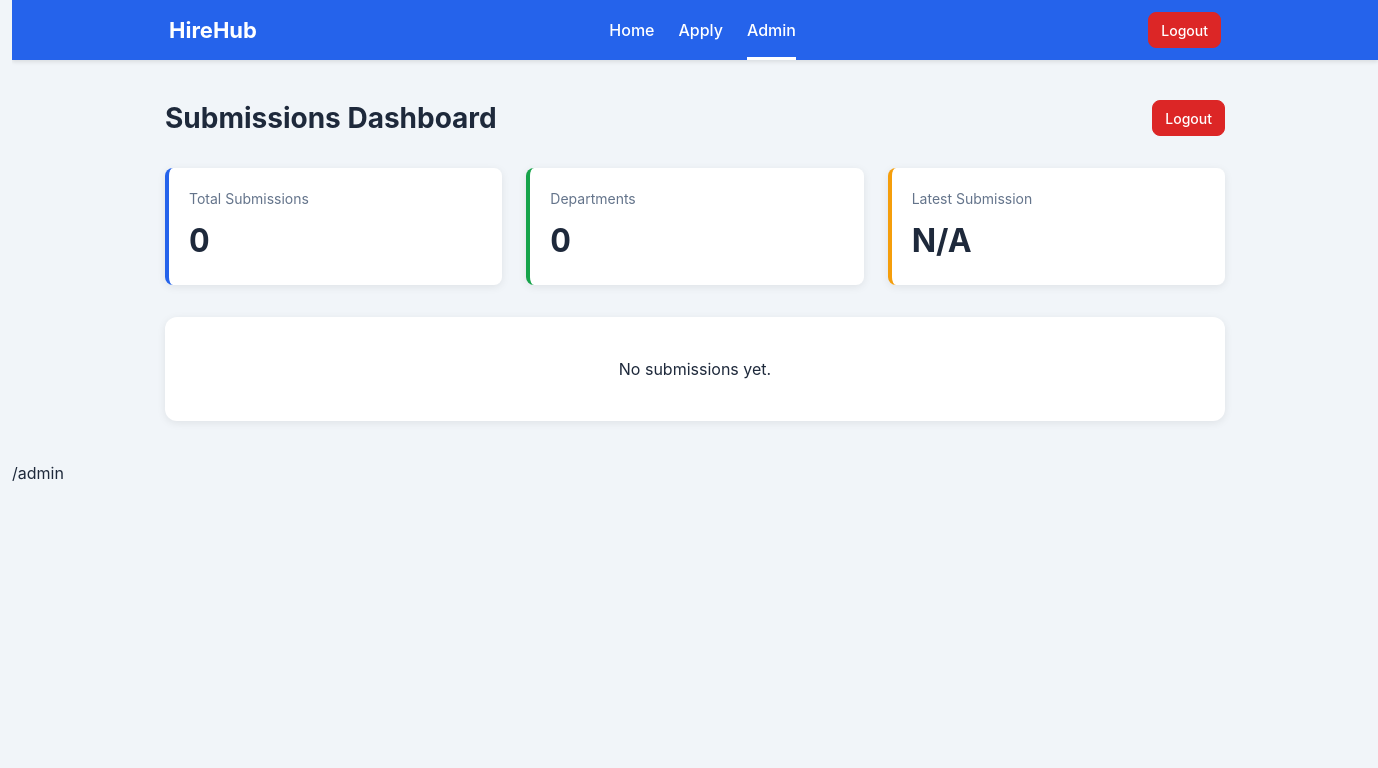
Scenario: App session routing › logs out through the main, clears only auth, and redirects home
Click the button "Logout" in the row of "Submissions Dashboard".
click(1189, 118)  # box [1152,100,1225,136]
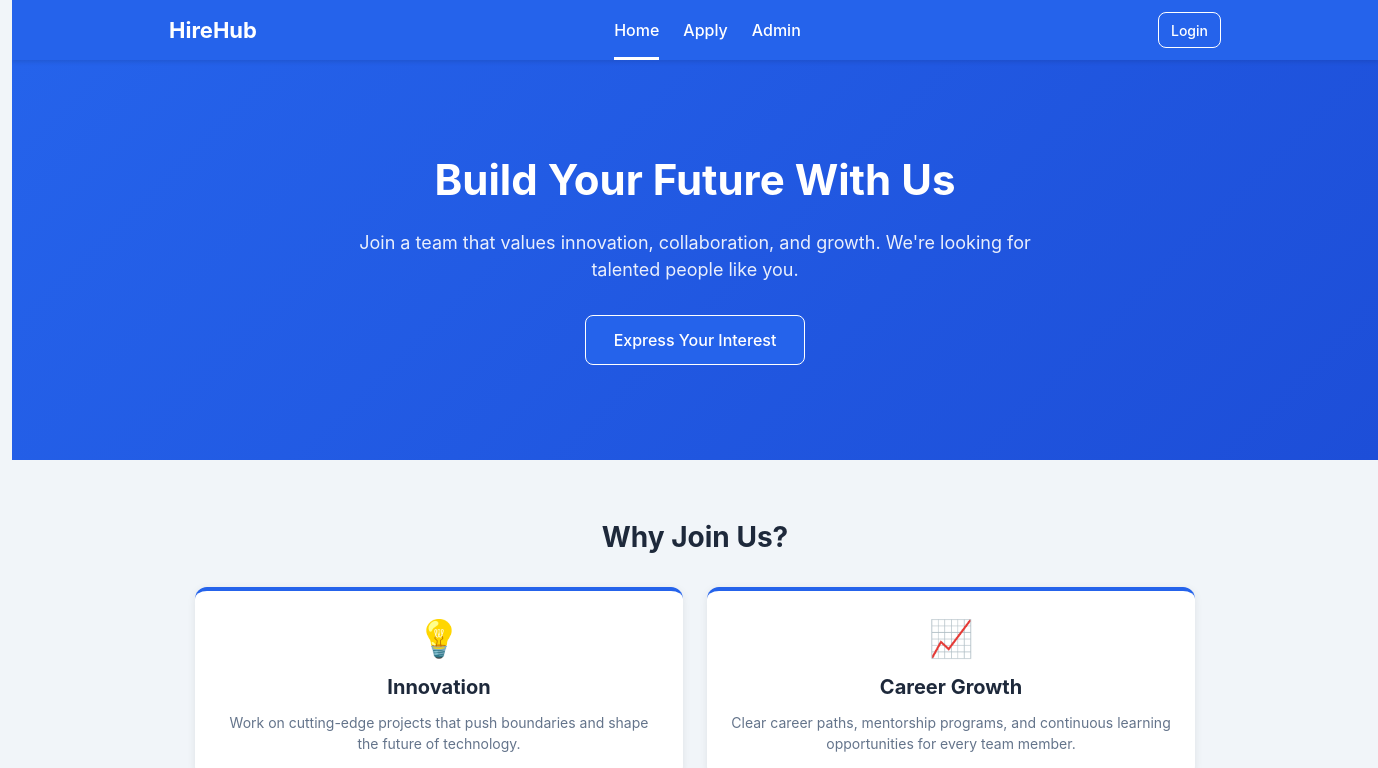
Now the heading "Build Your Future With Us" is shown, box [434,154,956,205]
Now the link "Login" is shown, box [1158,12,1221,48]
Click the link "Admin".
click(776, 30)  # box [752,20,801,40]
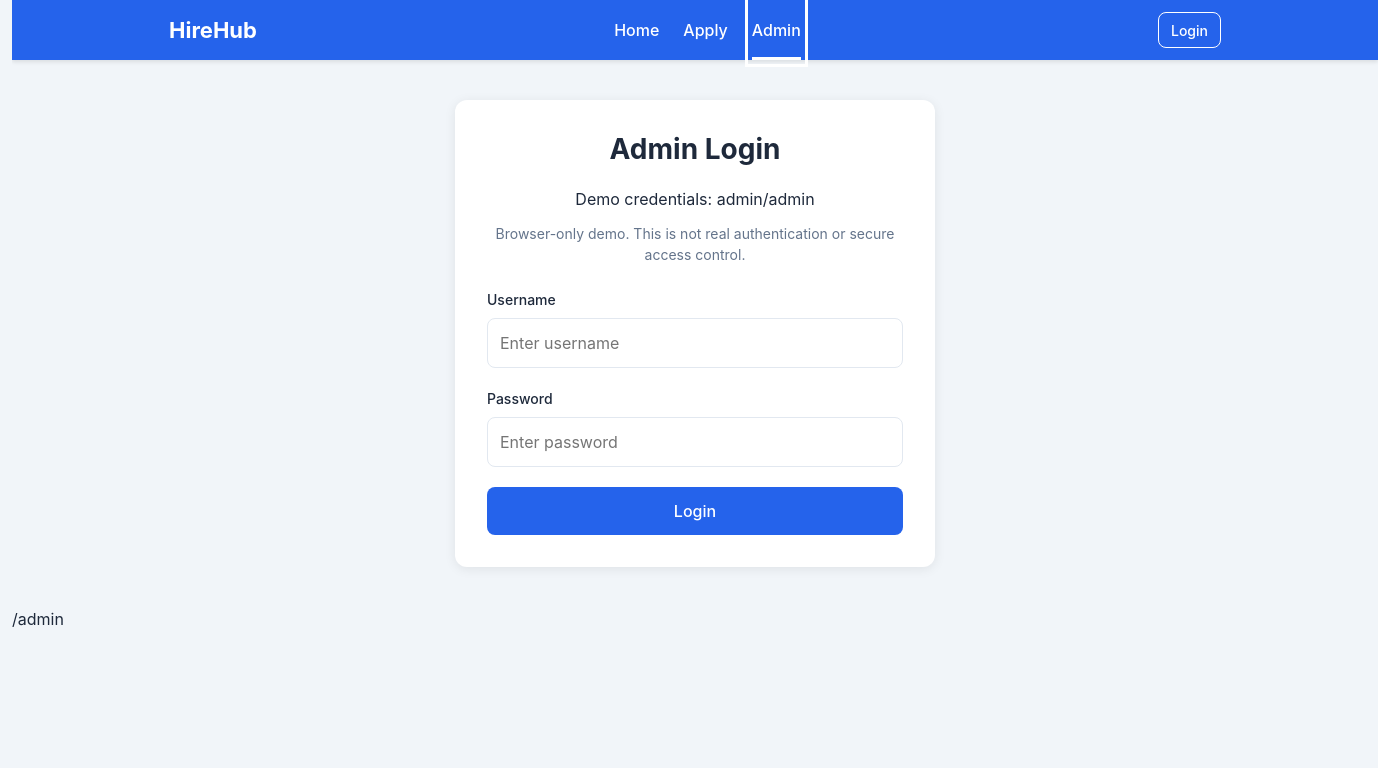
Expected: the heading "Submissions Dashboard" is not shown
Now the link "Login" is shown, box [1158,12,1221,48]
Now the heading "Admin Login" is shown, box [610,132,780,166]
